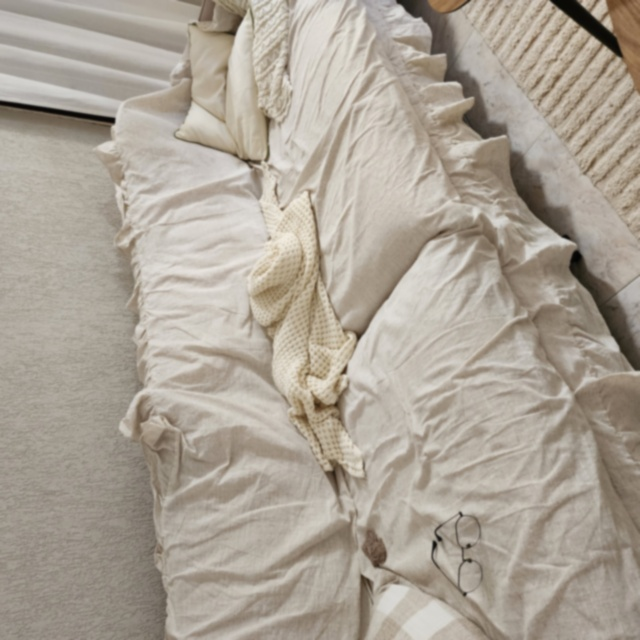glasses: (431, 511, 483, 599)
